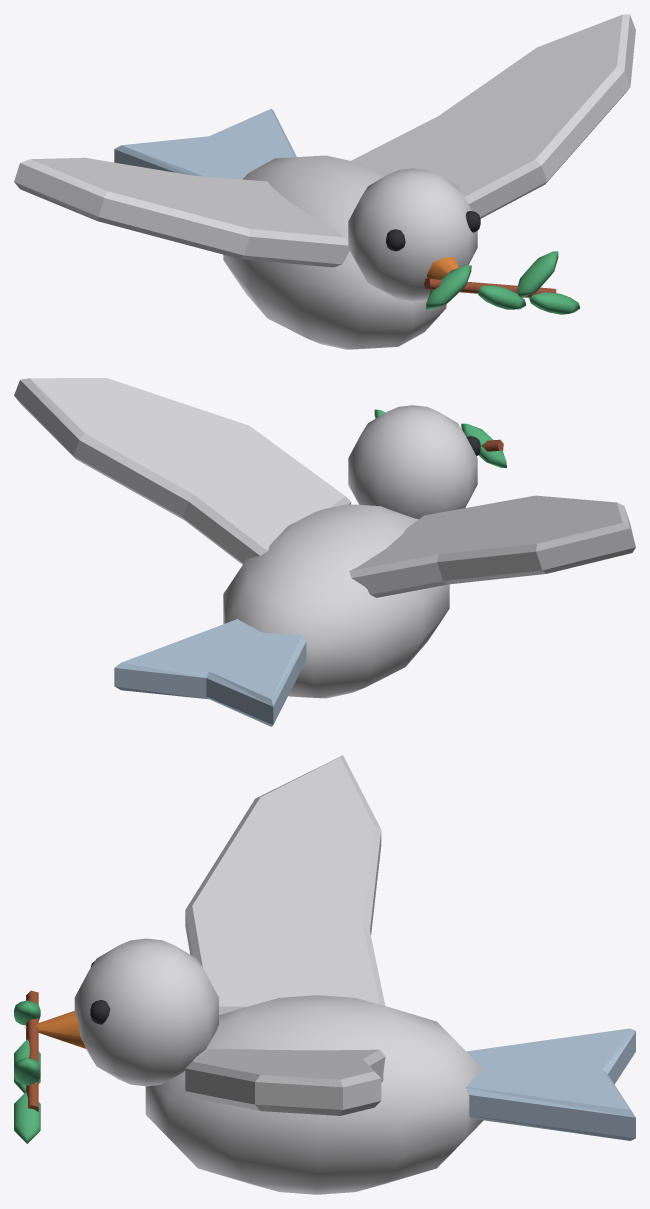
Rendered from pomba.glb.
The picture shows the model from 3 angles, top to bottom: view 1: azimuth 30°, elevation 25°; view 2: azimuth 150°, elevation 25°; view 3: azimuth 270°, elevation 25°; orthographic projection. The views are drawn at different scales.
Visible parts, largest first — view 1: modelo, asa-dir, asa-esq; view 2: modelo, asa-dir, asa-esq; view 3: modelo, asa-esq, asa-dir.
Part boxes in pixels (<box>): modelo: <box>114,108,579,349</box>; asa-dir: <box>351,14,635,218</box>; asa-esq: <box>14,157,349,267</box>; modelo: <box>114,405,506,726</box>; asa-dir: <box>14,378,351,564</box>; asa-esq: <box>349,495,635,597</box>; modelo: <box>14,938,635,1194</box>; asa-esq: <box>185,755,385,1014</box>; asa-dir: <box>185,1049,385,1115</box>.
Bounding box in the file's own units: 1.57 × 0.5731 × 1.22.
